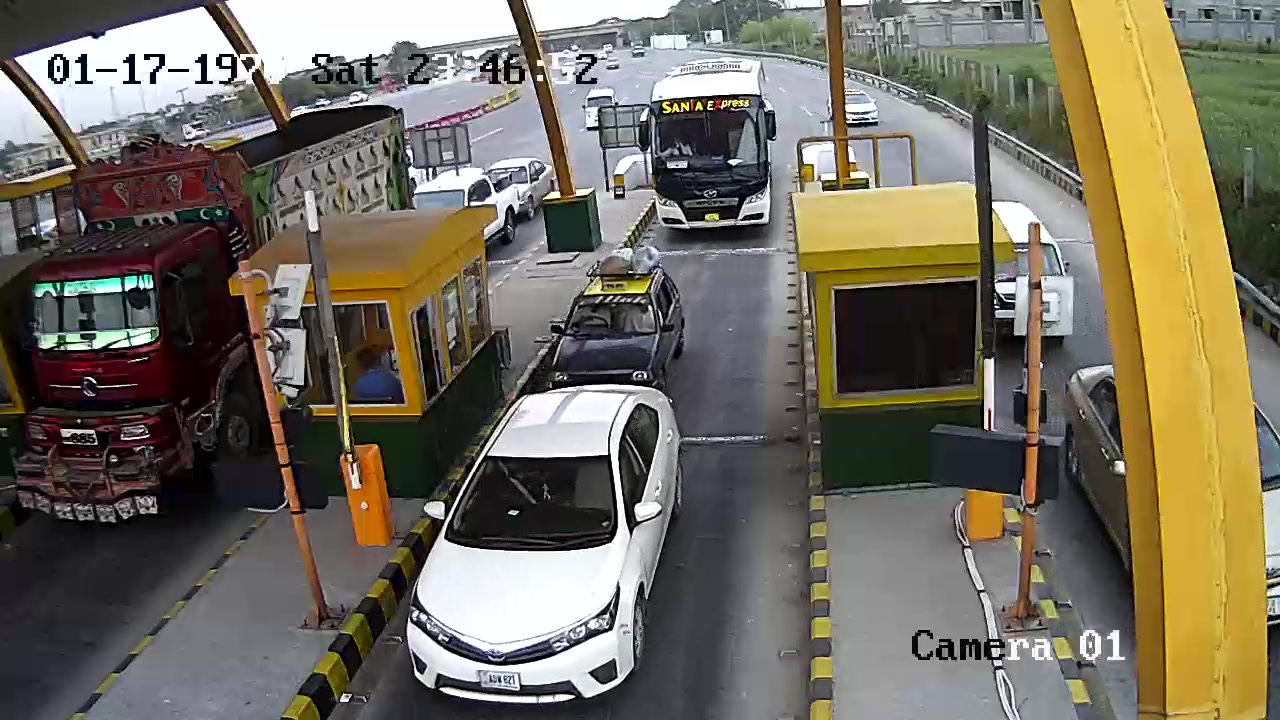F1: (397, 385, 704, 712)
